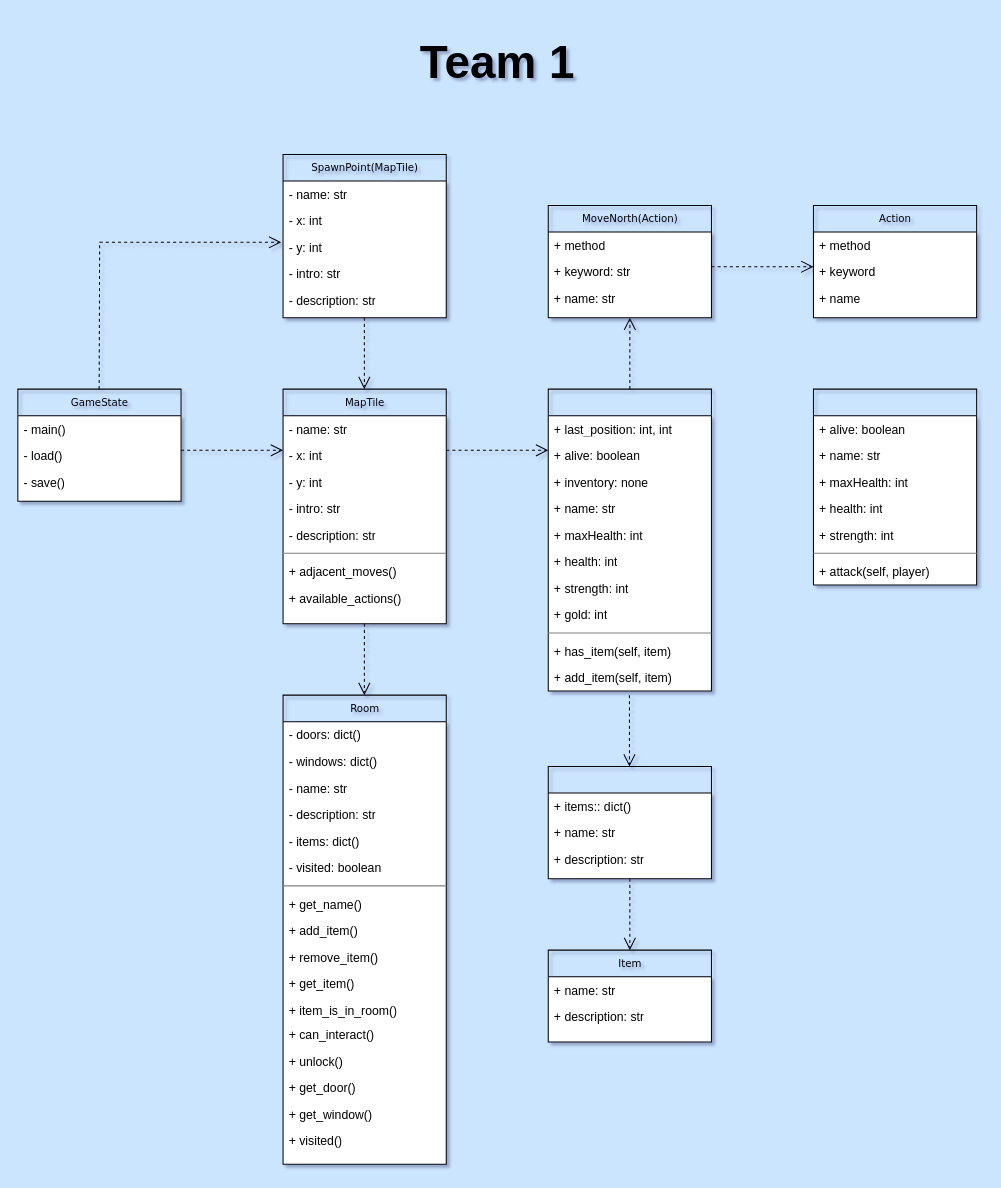
Image size: 1001x1188. Some labels were removed from this diagram. Here are the shapes that lost their labels. From the top down, the box of each, then its label:
(812, 388, 977, 585): Enemy
(547, 388, 711, 691): Character
(547, 766, 711, 879): Inventory
